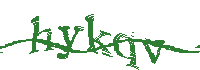h: (30, 15, 54, 54)
k: (85, 12, 113, 58)
q: (113, 31, 139, 70)
v: (142, 37, 165, 66)
y: (56, 24, 83, 59)
